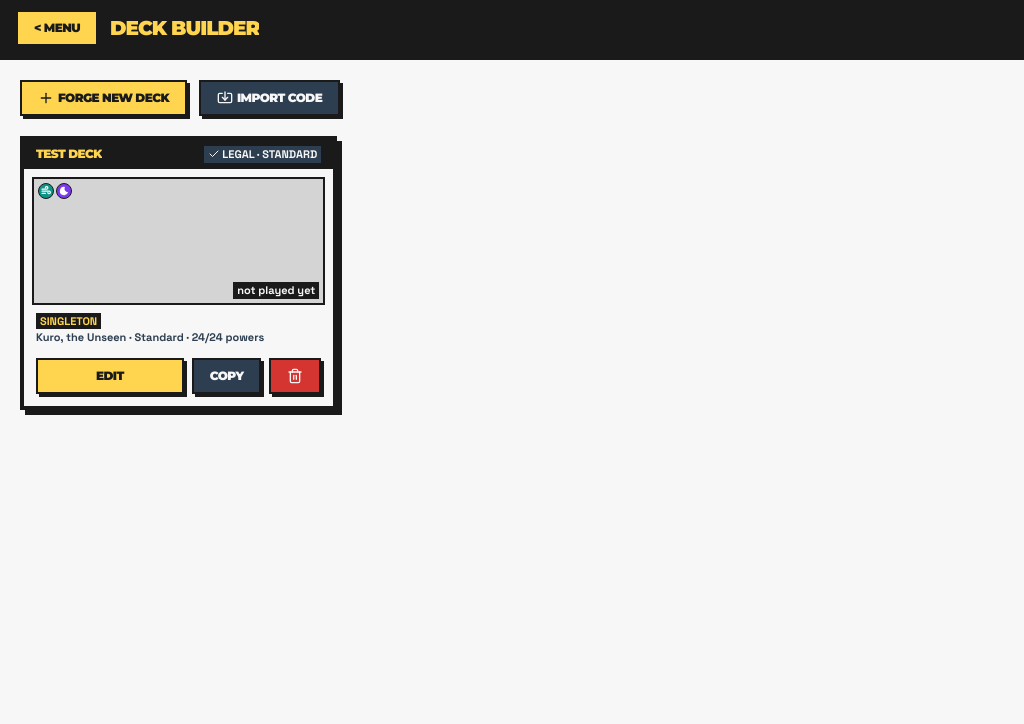
deck editor › a legal deck shows no banner and counts 24/24 powers
The image size is (1024, 724).
Click the button "EDIT": point(110, 376) [36,358,184,394]
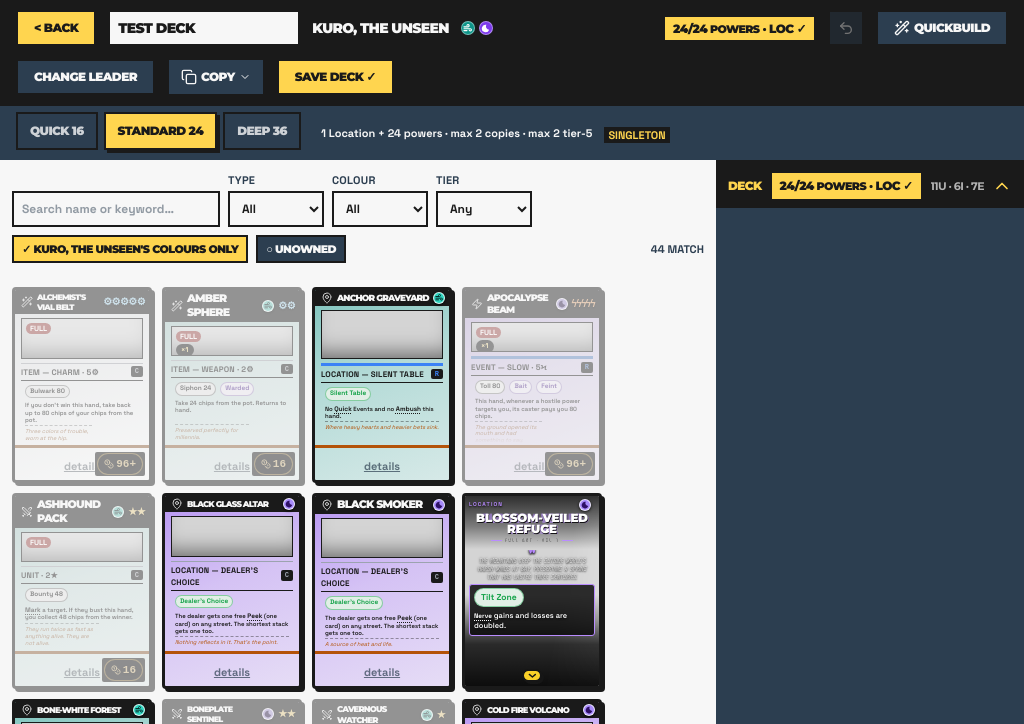
Result: the button "SAVE DECK ✓" is shown at [277,59,394,95]
Result: the 1st text "24/24 POWERS · LOC ✓" is shown at [663,15,816,42]
